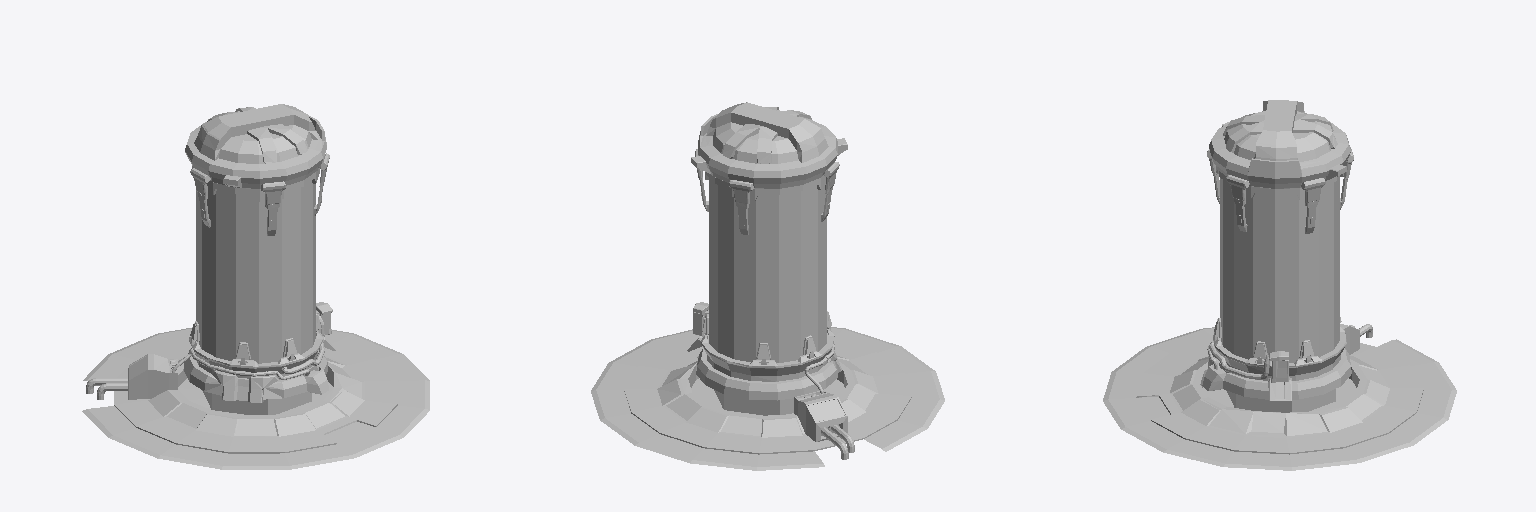
Rendered from осн.obj.
3 views of the same model, side by side, from view 1: azimuth 30°, elevation 25°; view 2: azimuth 150°, elevation 25°; view 3: azimuth 270°, elevation 25° (orthographic).
Visible parts, largest first — view 1: osnovanie_Cylinder.022, Capsul_w_Cylinder.002, osn_up_Cylinder.023, osn_down_Cylinder.003, blok_Cylinder.017, trubi_Cylinder.020, balka_Cylinder.010, detal_1_Cylinder.018, detal_2_Cube.002, krepeji_verh_1_Cylinder.006, krepeji_verh_Cylinder.028; view 2: osnovanie_Cylinder.022, Capsul_w_Cylinder.002, osn_up_Cylinder.023, osn_down_Cylinder.003, blok_Cylinder.017, detal_2_Cube.002, balka_Cylinder.010, trubi_Cylinder.020, krepeji_verh_1_Cylinder.006, krepeji_verh_Cylinder.028, monik_pribor_Cylinder.013; view 3: osnovanie_Cylinder.022, Capsul_w_Cylinder.002, osn_up_Cylinder.023, osn_down_Cylinder.003, detal_2_Cube.002, balka_Cylinder.010, krepeji_verh_1_Cylinder.006, krepeji_verh_Cylinder.028, trubi_Cylinder.020.
Part boxes in pixels (x1,y1,x2,y2): osnovanie_Cylinder.022: (82,327,429,469); Capsul_w_Cylinder.002: (196,181,315,363); osn_up_Cylinder.023: (185,104,326,201); osn_down_Cylinder.003: (184,331,328,399); blok_Cylinder.017: (128,354,177,399); trubi_Cylinder.020: (86,315,324,399); balka_Cylinder.010: (202,390,311,414); detal_1_Cylinder.018: (213,370,279,402); detal_2_Cube.002: (207,107,307,163); krepeji_verh_1_Cylinder.006: (190,153,329,204); krepeji_verh_Cylinder.028: (198,181,324,235); osnovanie_Cylinder.022: (591,327,944,470); Capsul_w_Cylinder.002: (709,178,826,362); osn_up_Cylinder.023: (698,102,837,200); osn_down_Cylinder.003: (696,329,837,400); blok_Cylinder.017: (794,390,847,441); detal_2_Cube.002: (723,107,811,163); balka_Cylinder.010: (714,389,823,415); trubi_Cylinder.020: (805,341,854,459); krepeji_verh_1_Cylinder.006: (695,149,839,203); krepeji_verh_Cylinder.028: (699,178,832,234); monik_pribor_Cylinder.013: (809,399,844,421); osnovanie_Cylinder.022: (1103,327,1456,470); Capsul_w_Cylinder.002: (1220,177,1339,362); osn_up_Cylinder.023: (1209,100,1350,199); osn_down_Cylinder.003: (1202,327,1351,399); detal_2_Cube.002: (1223,114,1337,152); balka_Cylinder.010: (1226,389,1335,412); krepeji_verh_1_Cylinder.006: (1207,147,1353,202); krepeji_verh_Cylinder.028: (1212,170,1348,233); trubi_Cylinder.020: (1207,324,1372,379).
Bounding box in the file's own units: 4.28 × 3.74 × 4.28.